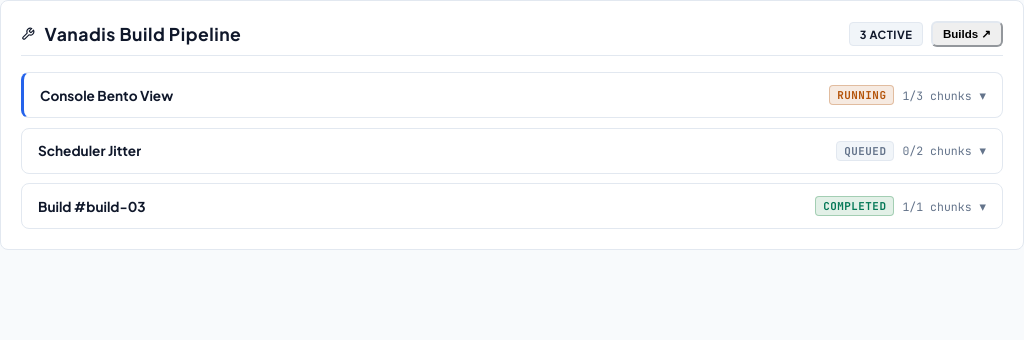
Scenario: OverviewBuildsSection › fetches detail fallback exactly once when expanding a chunk-less build, showing loading then DAG, and aborts on collapse
This screenshot has width=1024, height=340.
Click the button with class "overview-build-header" that starts with "Scheduler Jitter". click: [90, 151]
box: [38, 141, 986, 161]
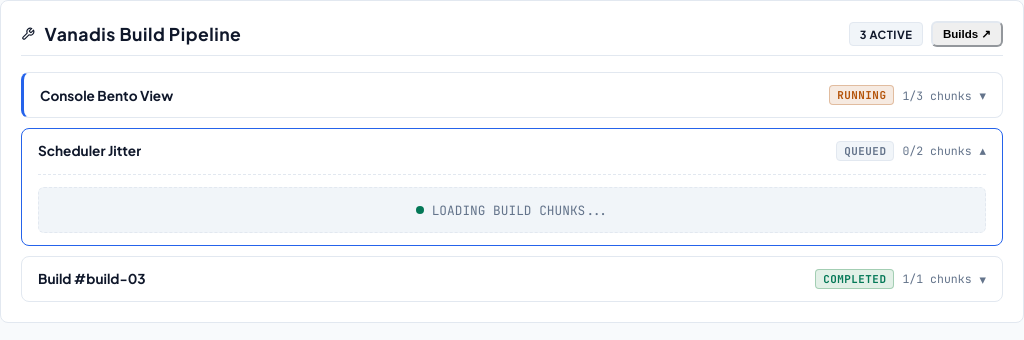
Expected: the button with class "overview-build-header" is expanded
Expected: the text "LOADING BUILD CHUNKS..." is shown, [38, 187, 986, 233]
Click the button with class "overview-build-header" that starts with "Scheduler Jitter". click: [90, 151]
box: [38, 141, 986, 161]
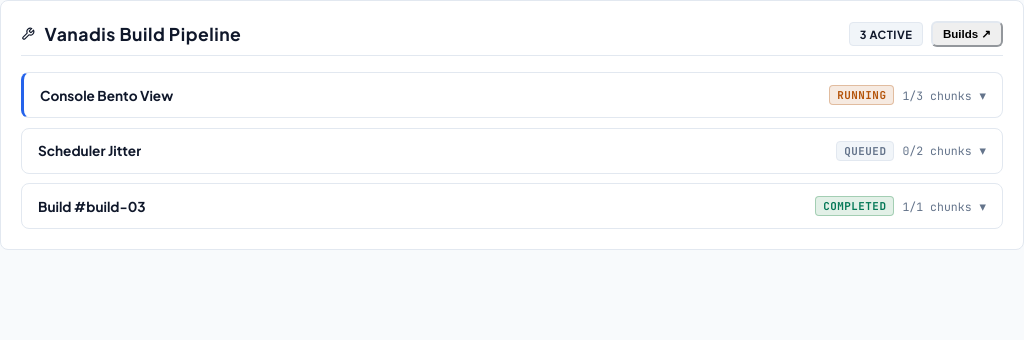
Expected: the button with class "overview-build-header" is collapsed, [38, 141, 986, 161]
